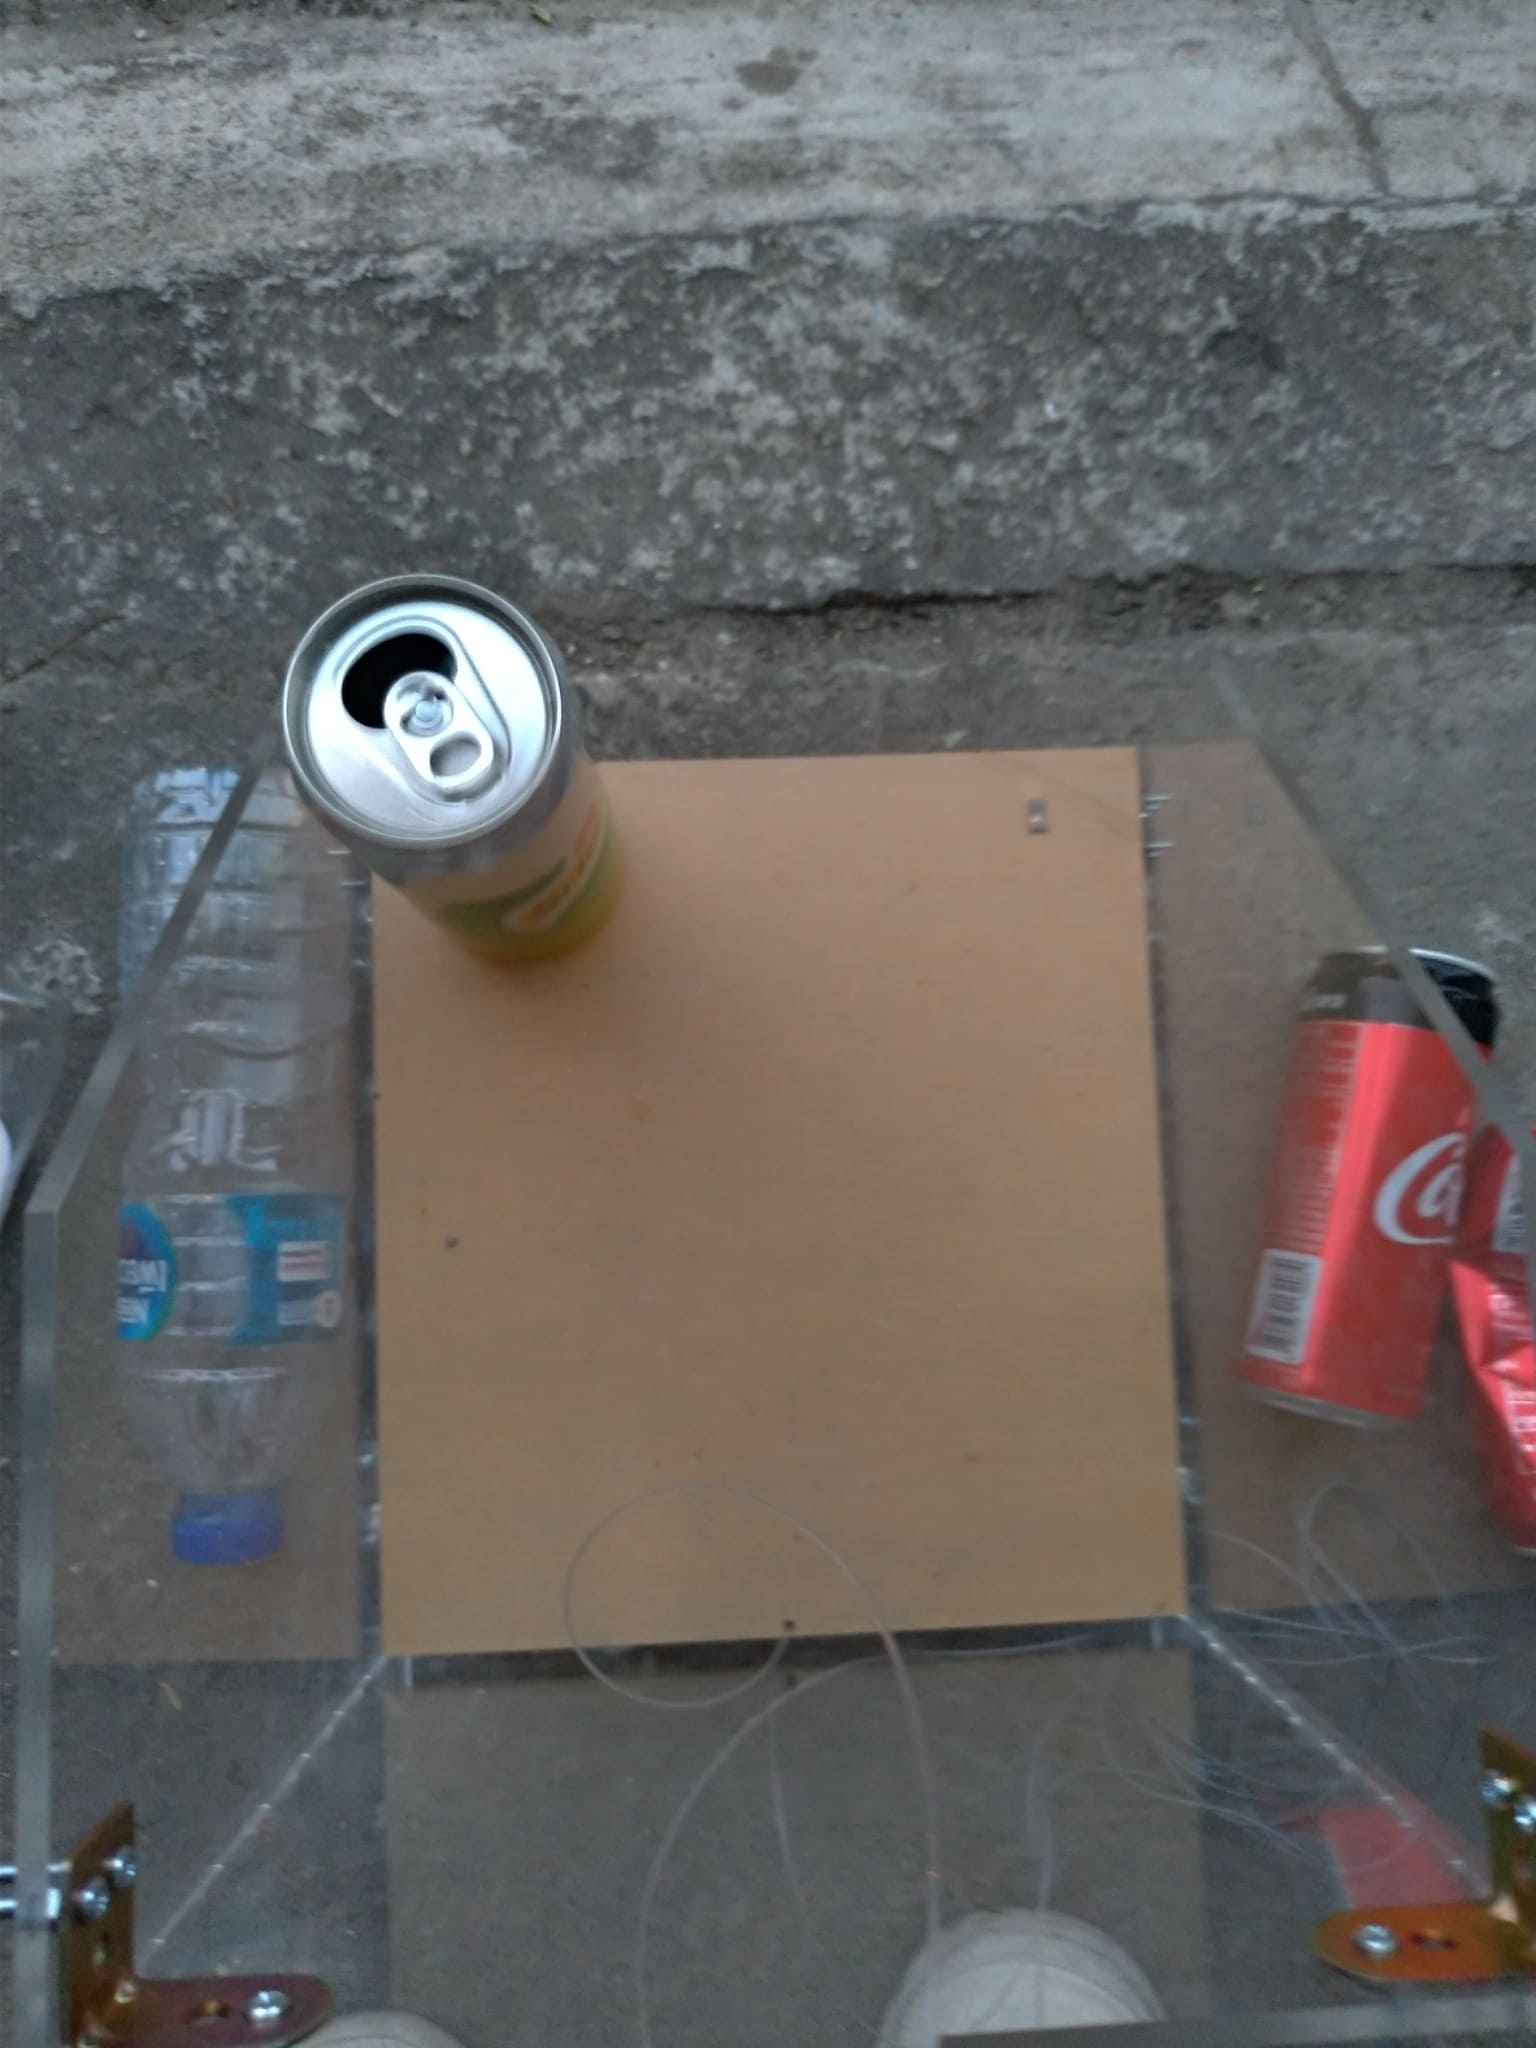AlCan: (282, 572, 636, 984), (1234, 948, 1504, 1434)
PlasticBottle: (106, 772, 360, 1567)
